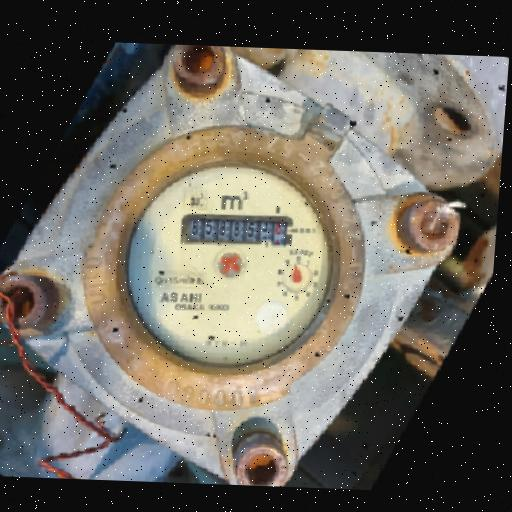3: (260, 219, 272, 240)
5: (246, 219, 258, 239), (204, 218, 215, 239)
8: (273, 220, 284, 246), (189, 218, 202, 238), (232, 218, 244, 239), (218, 219, 229, 239)
border_water_meter_number: (180, 211, 295, 248)
